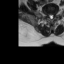CCS_normal: (50, 12, 52, 21)
LFS_severe_stenosis: (53, 12, 56, 17)
LLS_normal: (52, 12, 54, 19)
RFS_severe_stenosis: (46, 11, 48, 17)
RLS_normal: (48, 12, 50, 19)
